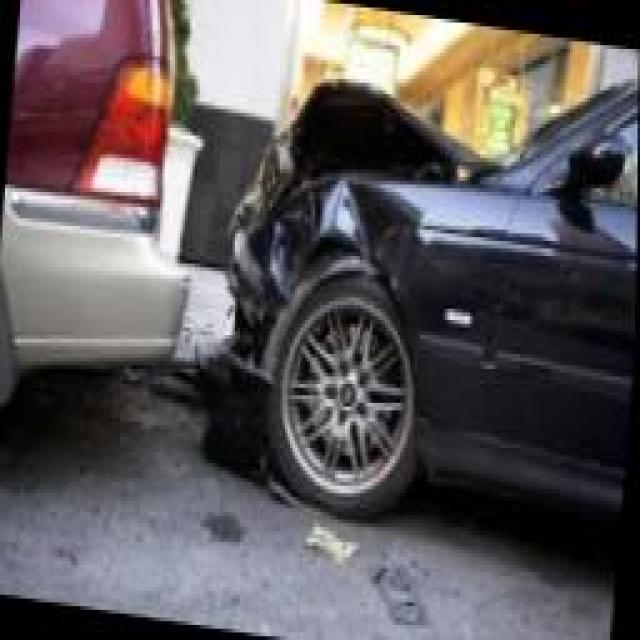Bonnet: (227, 70, 498, 246)
Bumper: (195, 263, 269, 423)
Fender: (246, 184, 514, 356)
